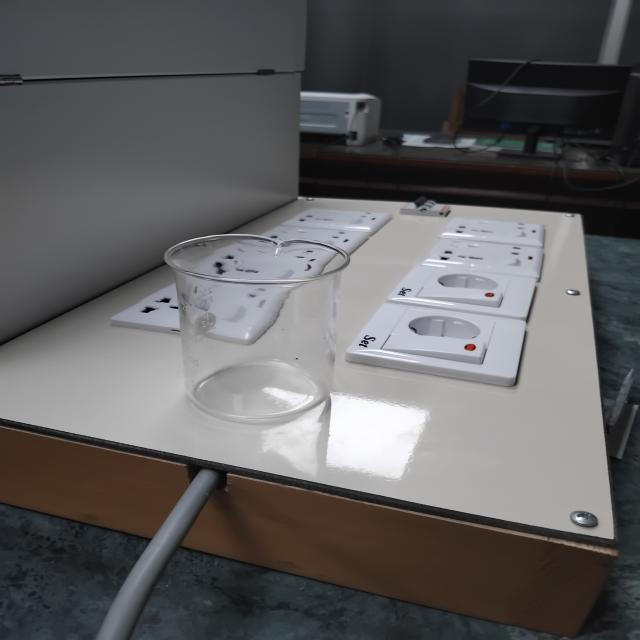Beaker: (121, 211, 400, 439)
